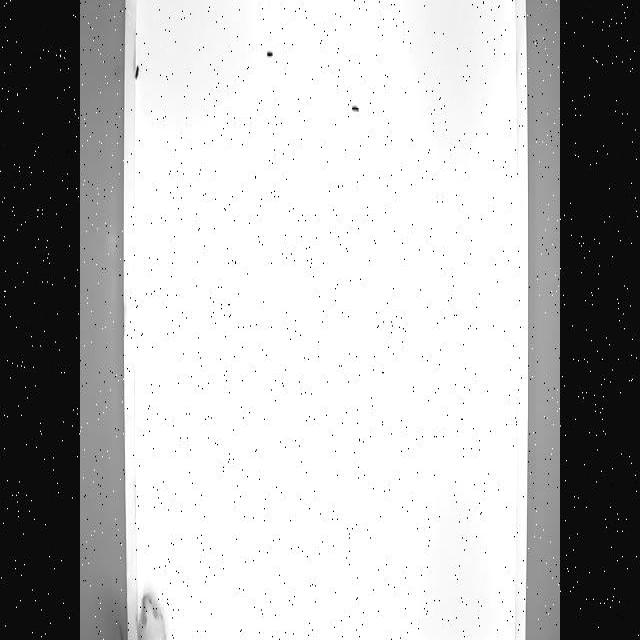rat: (118, 588, 168, 640)
